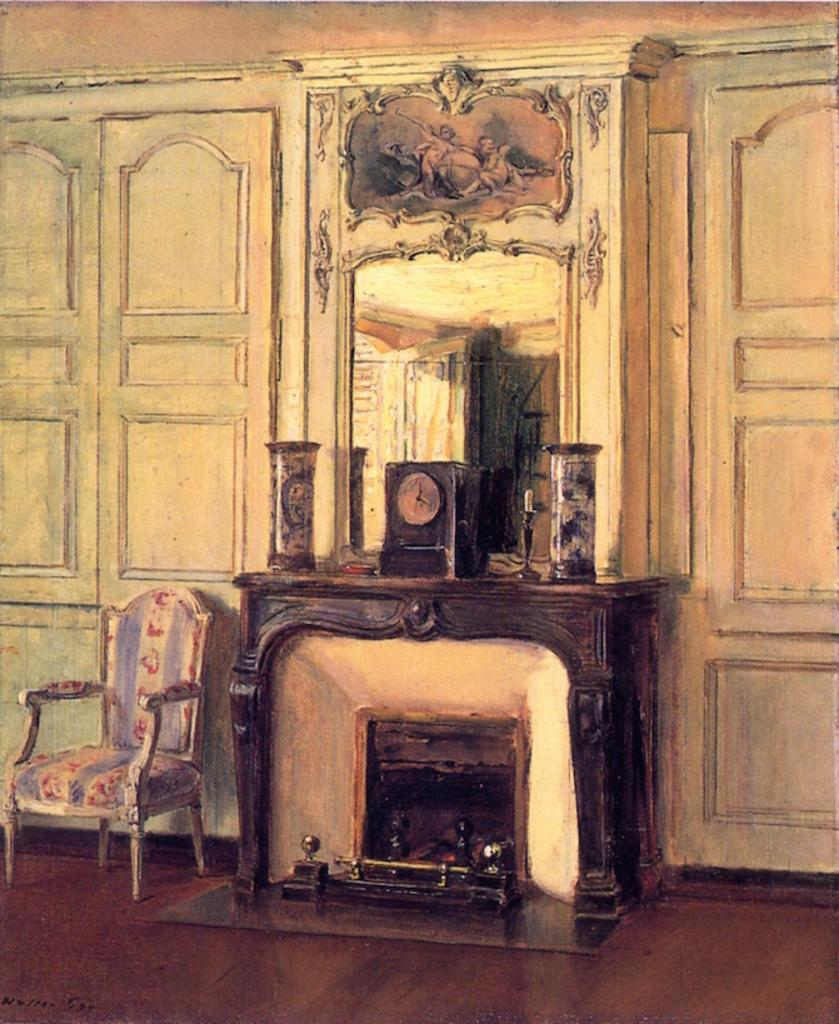Chair: (13, 626, 213, 883)
